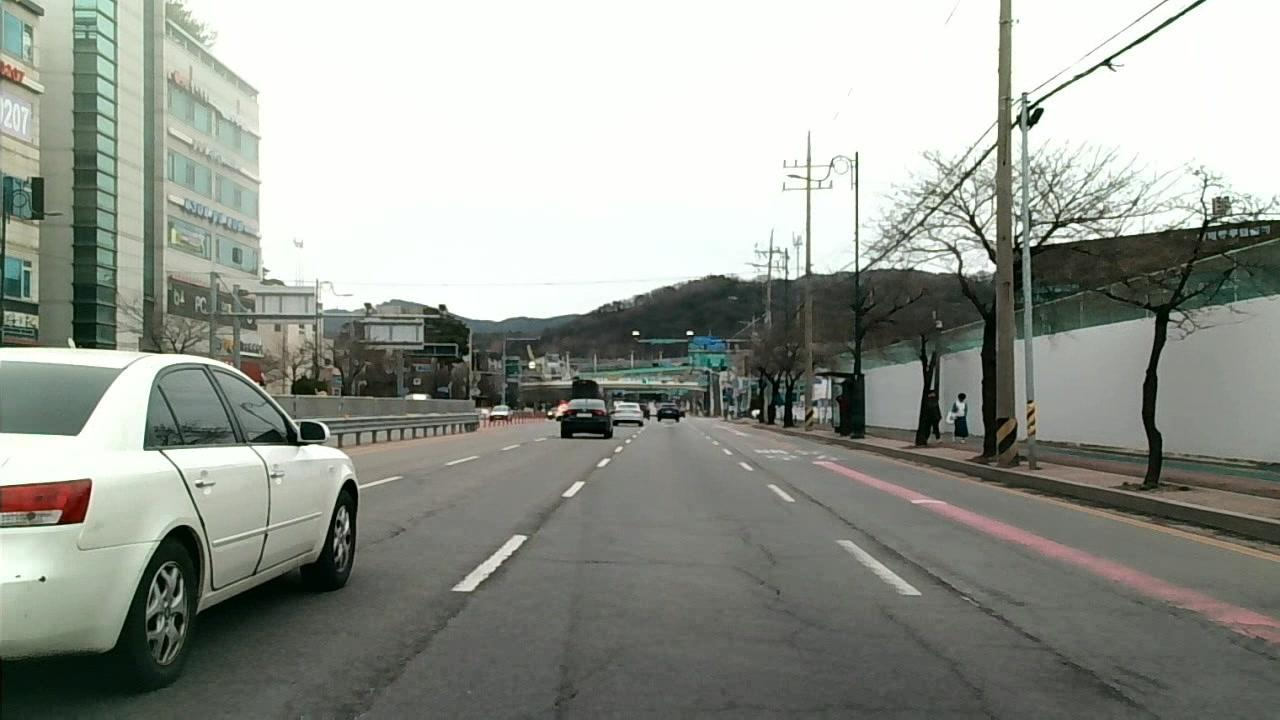hcrack: (527, 553, 685, 569)
vcrack: (328, 600, 474, 720), (1001, 613, 1150, 714), (825, 505, 977, 603), (875, 610, 989, 714), (748, 535, 806, 645), (377, 503, 450, 541), (524, 497, 574, 538), (554, 621, 575, 713)
